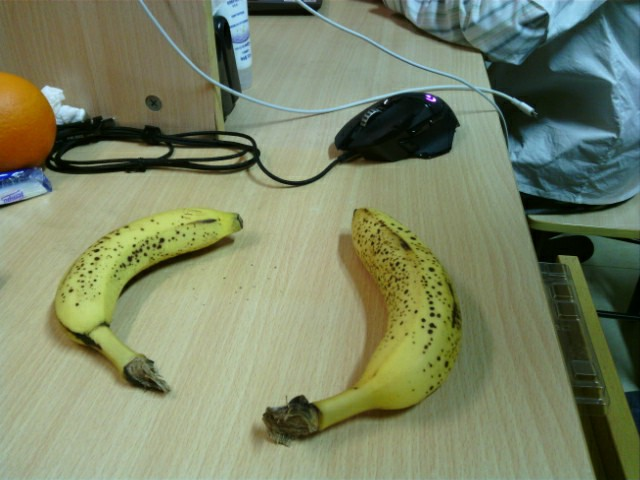normal_banana: (263, 209, 460, 443), (53, 208, 242, 397)
